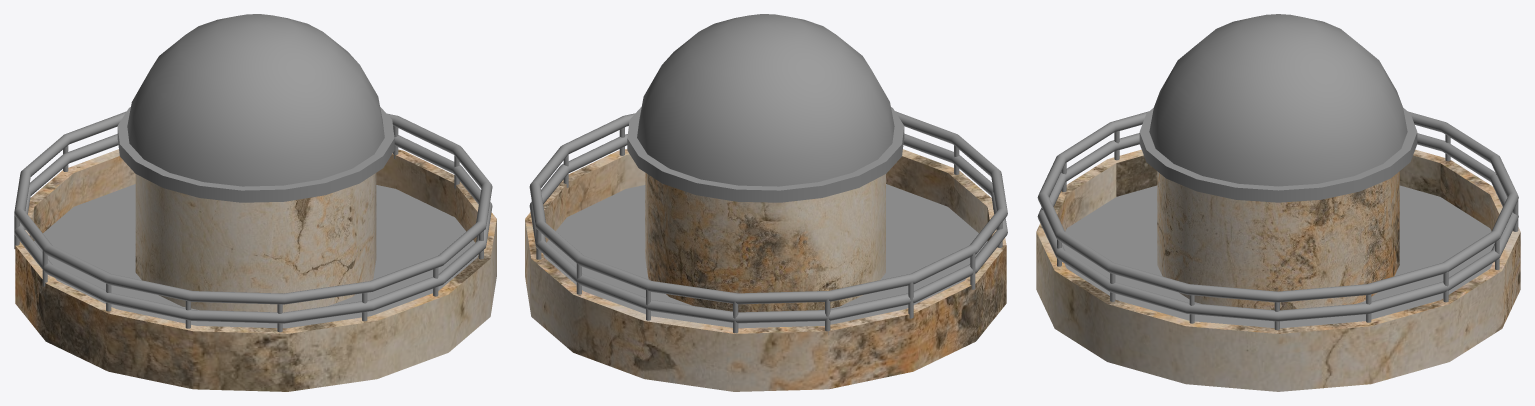
The model's file is Tour.FBX.
The picture shows the model from 3 angles, left to right: view 1: azimuth 30°, elevation 25°; view 2: azimuth 150°, elevation 25°; view 3: azimuth 270°, elevation 25°; orthographic projection.
Visible parts, largest first — view 1: Cylinder008; view 2: Cylinder008; view 3: Cylinder008.
Boxes of the visible parts, <box> form: Cylinder008: <box>14,14,496,391</box>; Cylinder008: <box>525,14,1007,391</box>; Cylinder008: <box>1036,14,1520,391</box>.
Bounding box in the file's own units: 861 × 858 × 517.
Materials: 3 (1 with a texture image).
